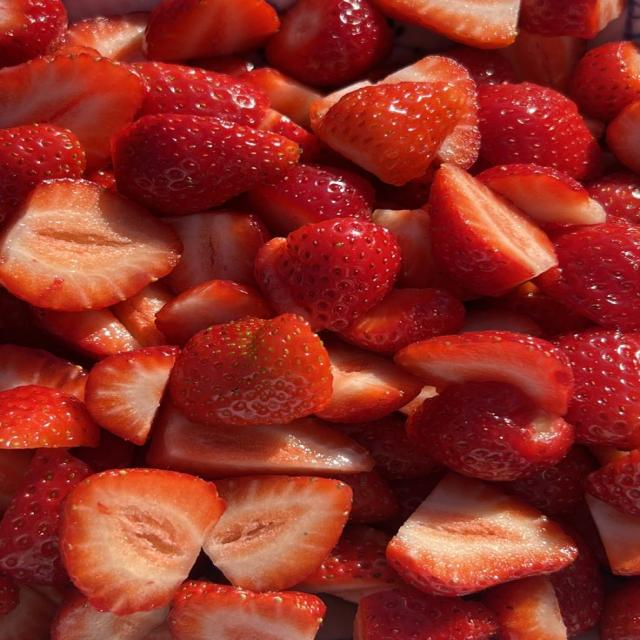strawberry sliced: (60, 469, 224, 615), (0, 179, 181, 311), (387, 473, 577, 595), (113, 113, 299, 215), (168, 314, 332, 426), (147, 401, 373, 479), (429, 164, 557, 296), (204, 476, 352, 590), (407, 381, 574, 481), (0, 54, 143, 170), (316, 82, 467, 185), (395, 331, 573, 414), (276, 217, 400, 331), (0, 449, 92, 586), (479, 83, 601, 179), (536, 222, 639, 331), (381, 56, 480, 168), (266, 0, 393, 86), (373, 202, 469, 300), (316, 335, 423, 422), (86, 347, 179, 444), (169, 582, 326, 639), (250, 164, 374, 236), (134, 62, 269, 127), (0, 124, 86, 224), (165, 211, 269, 293), (340, 289, 465, 355), (146, 0, 279, 61), (296, 525, 401, 602), (476, 164, 606, 224), (155, 280, 273, 345), (354, 586, 498, 639), (376, 0, 519, 48), (337, 413, 439, 480), (502, 445, 597, 516), (254, 238, 322, 331), (0, 385, 99, 448), (550, 524, 604, 637), (51, 590, 169, 639), (569, 41, 639, 121), (234, 67, 322, 128), (36, 308, 141, 359), (500, 29, 586, 91), (482, 576, 566, 639), (0, 344, 86, 399), (60, 11, 148, 62), (0, 0, 67, 66), (587, 494, 639, 576), (520, 0, 626, 39), (111, 281, 173, 347), (585, 450, 639, 516), (334, 471, 397, 523), (0, 585, 56, 639), (443, 46, 517, 85), (70, 429, 136, 472), (586, 171, 639, 224), (460, 308, 545, 337), (600, 579, 639, 639), (607, 100, 639, 173), (0, 449, 34, 512), (0, 572, 19, 615)
